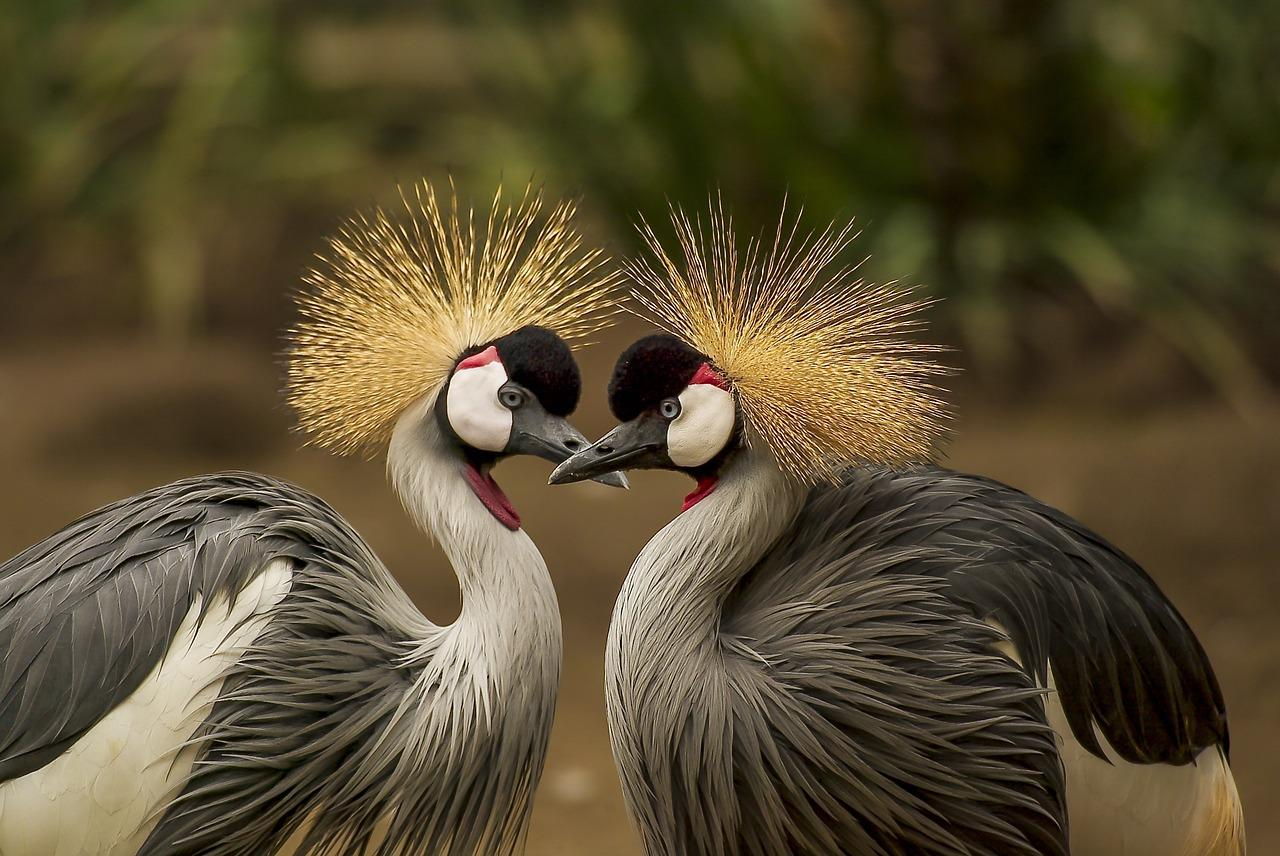bird: (0, 188, 1242, 855)
